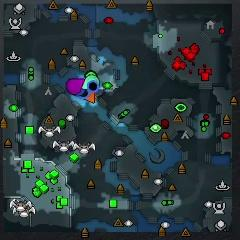p1Clone: (88, 80, 99, 92), (78, 89, 89, 99)
p2: (82, 76, 99, 89)
p3: (66, 78, 85, 95)
p5: (84, 92, 96, 103)
